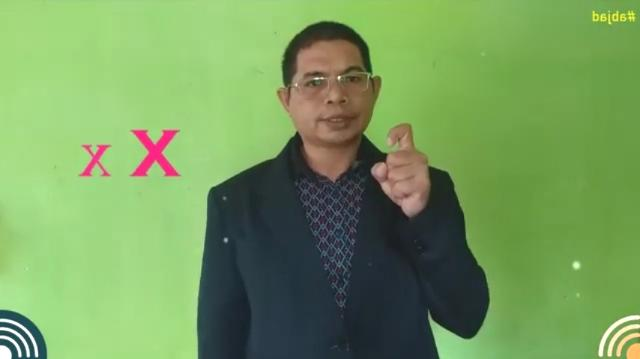X: (370, 122, 430, 214)
